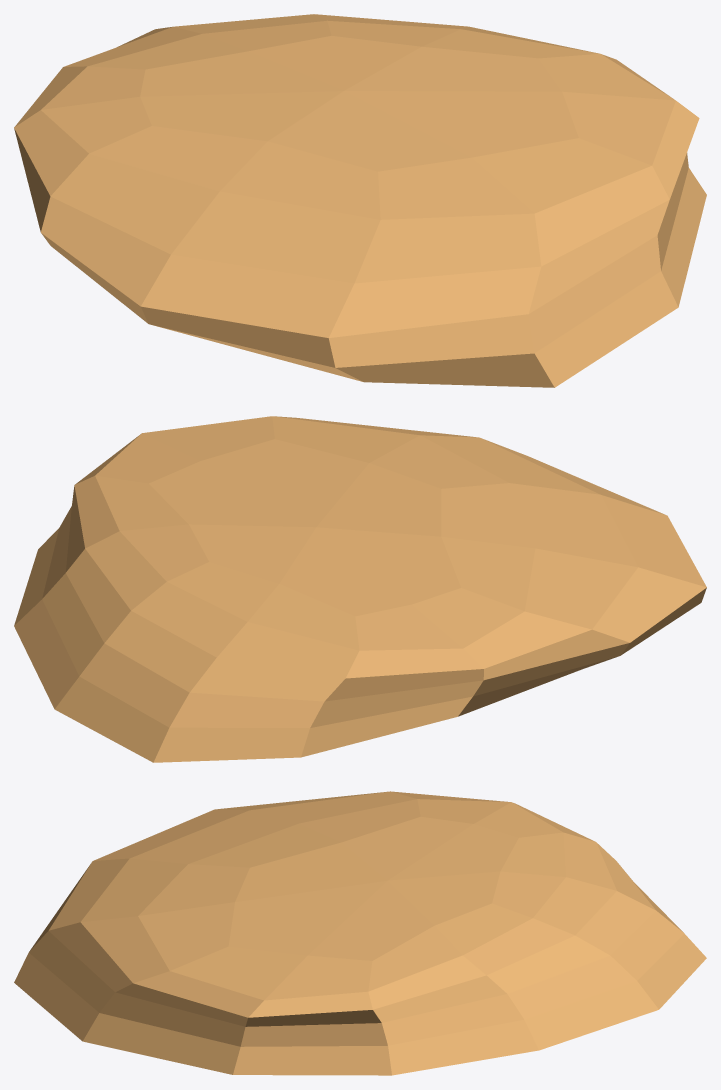
Rendered from Sand3.glb.
3 renders of one model, top to bottom at view 1: azimuth 30°, elevation 25°; view 2: azimuth 150°, elevation 25°; view 3: azimuth 270°, elevation 25°, orthographic. The views are drawn at different scales.
Parts seen in each view (by area): view 1: Sand6; view 2: Sand6; view 3: Sand6.
Boxes of the visible parts, box(x1,y1,x2,y2) form: Sand6: box(14, 14, 706, 387); Sand6: box(14, 416, 706, 762); Sand6: box(14, 791, 706, 1075).
Bounding box in the file's own units: 20.62 × 4.2 × 24.47.
